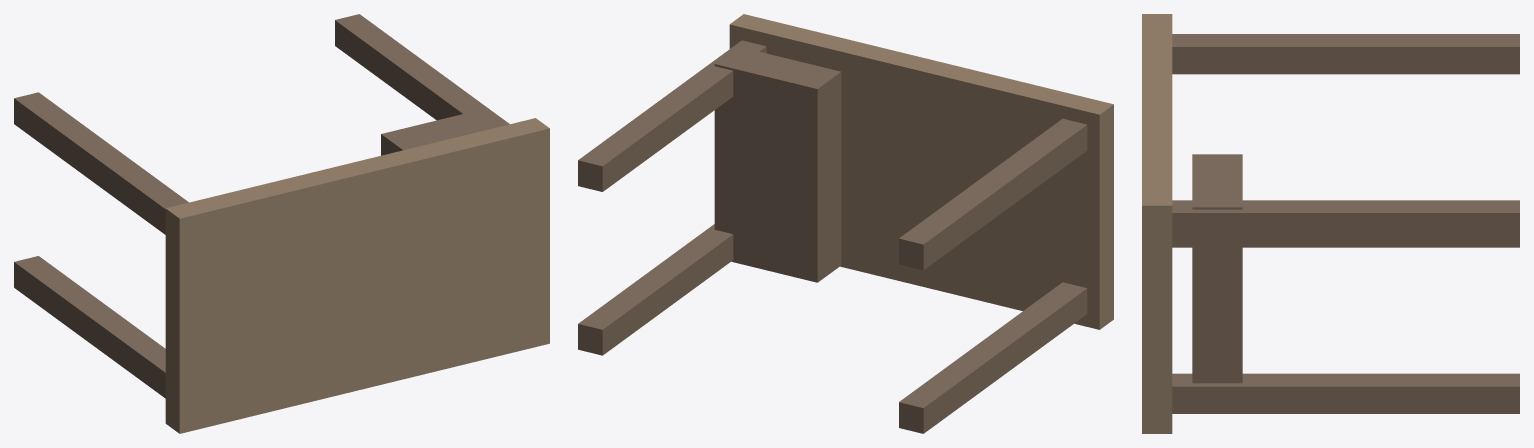
The model's file is child_desk.glb.
The picture shows the model from 3 angles, left to right: view 1: azimuth 30°, elevation 25°; view 2: azimuth 150°, elevation 25°; view 3: azimuth 270°, elevation 25°; orthographic projection. The views are drawn at different scales.
Parts seen in each view (by area): view 1: world; view 2: world; view 3: world.
Part boxes in pixels (x1,y1,x2,y2): world: (14, 14, 549, 433); world: (578, 14, 1113, 433); world: (1142, 14, 1519, 433).
Size of the model in its own units: 0.9 by 0.5 by 0.75.
